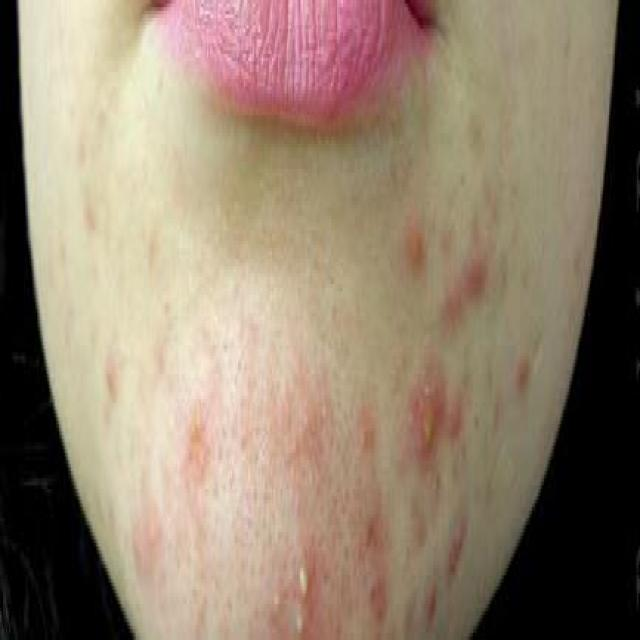blackheads: (356, 485, 392, 640), (445, 208, 483, 313), (411, 349, 446, 460), (130, 500, 164, 582), (402, 194, 429, 281), (441, 499, 467, 572), (183, 403, 206, 478), (268, 600, 308, 640), (78, 183, 102, 241), (512, 334, 532, 403), (352, 414, 375, 453), (102, 352, 120, 399), (297, 561, 312, 600)
